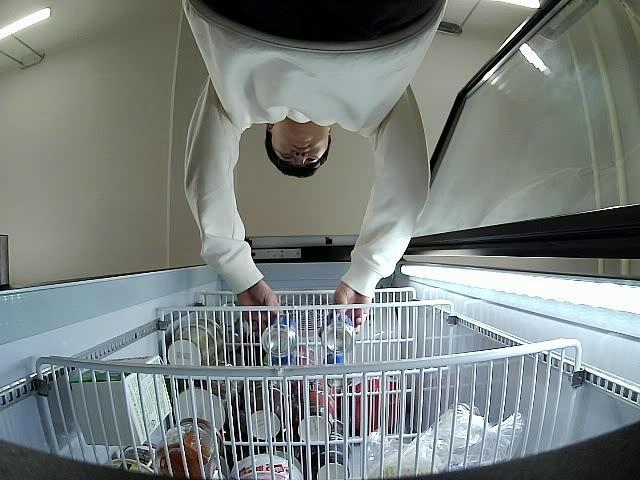13_pocariSweat: (264, 316, 300, 358), (320, 314, 352, 354)
